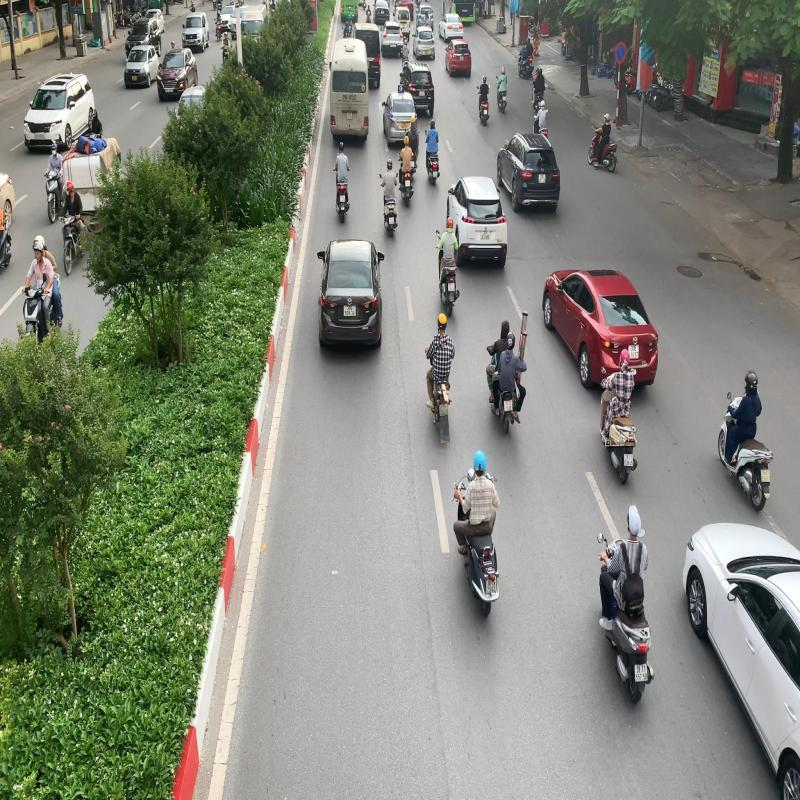helmet: (626, 502, 642, 540), (472, 449, 487, 477)
licenseplate: (633, 662, 649, 684), (484, 576, 499, 596)
motorcyclist: (596, 501, 656, 709), (450, 447, 503, 620)
